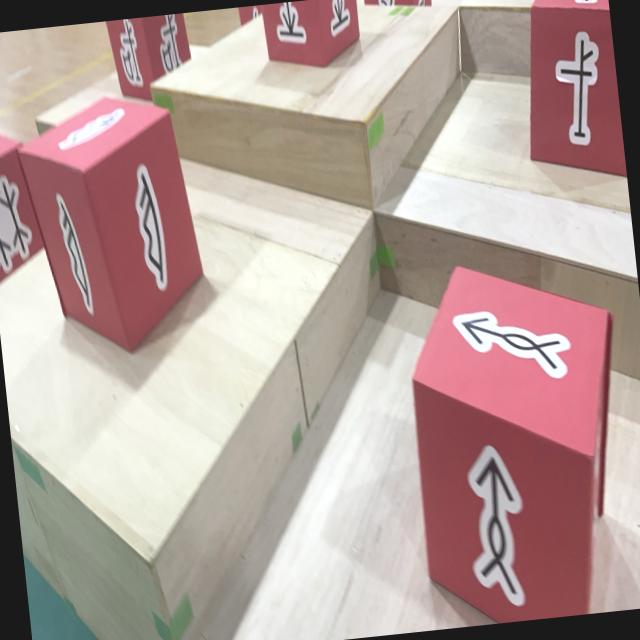11: (130, 162, 170, 296), (54, 188, 94, 320), (55, 106, 128, 151)
12: (462, 441, 534, 608), (452, 301, 574, 389)
5: (117, 18, 144, 90), (156, 13, 182, 72)
6: (0, 170, 35, 274)
7: (274, 0, 307, 47), (327, 0, 351, 38)
9: (550, 30, 608, 148), (565, 0, 608, 6)
fighter: (396, 248, 640, 629), (12, 88, 212, 362), (510, 0, 626, 187), (106, 12, 194, 104), (0, 124, 47, 288), (261, 0, 362, 72), (363, 0, 432, 12), (236, 4, 264, 25)
